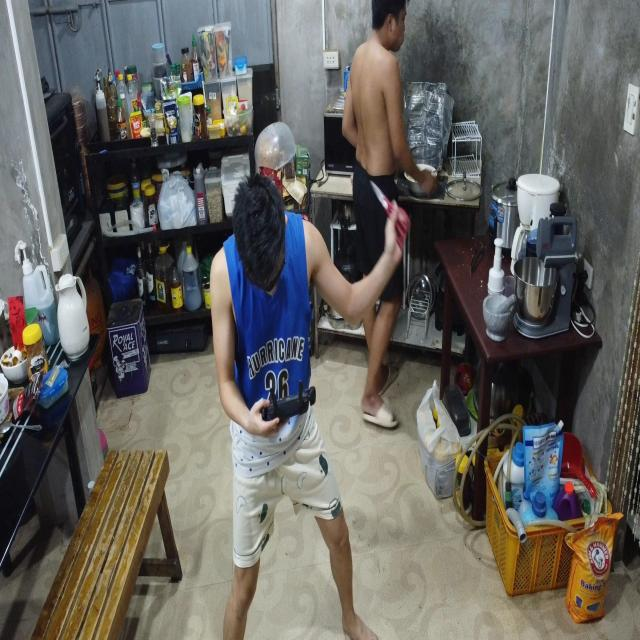scissor: (369, 178, 411, 246)
